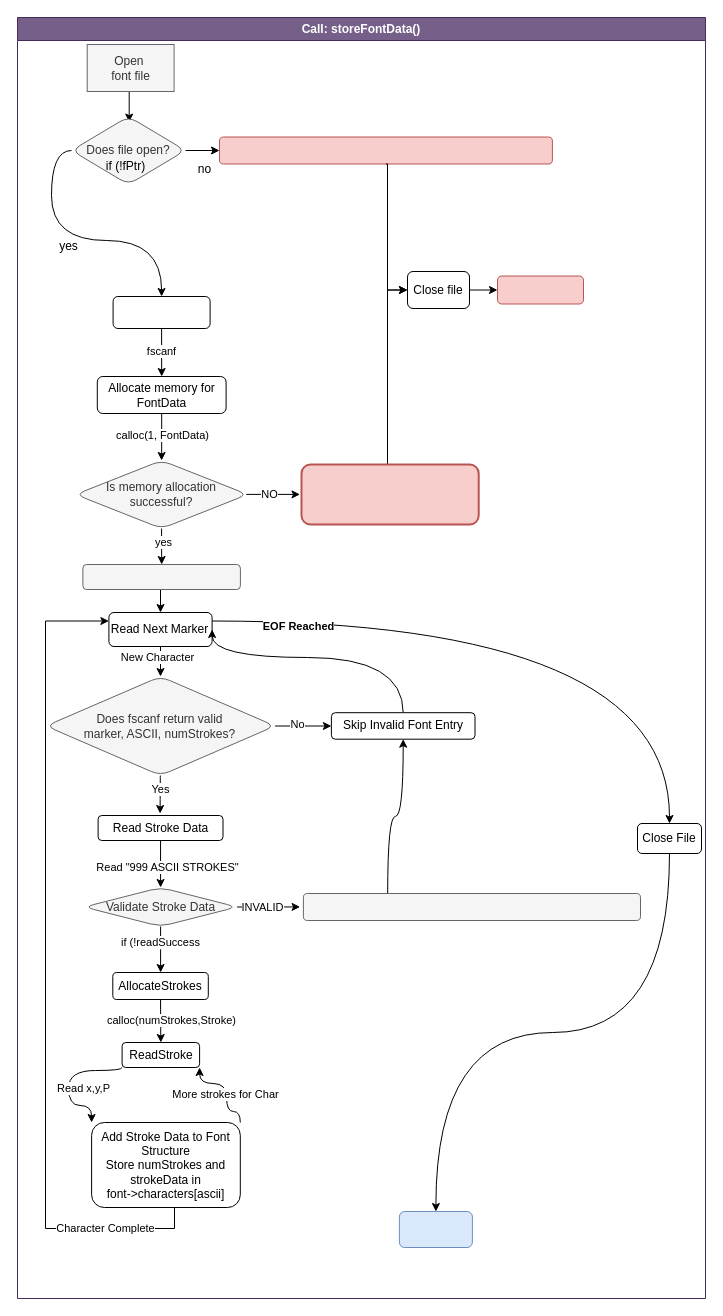
Some shapes in this 723 by 1316 pixel diagram are drawn without their labels. Each missing label, with the centre of its shape:
printf(Error: Failed to allocate memory for strokes of ASCII %d): (x=471, y=906)
printf(Loading font data...): (x=161, y=577)
printf: "[ERROR] Failed to open font file": (x=385, y=150)
printf: "[ERROR] Memory allocation failed for FontData": (x=389, y=494)
Read font data: (x=161, y=312)
Return font: (x=435, y=1229)
Return NULL: (x=540, y=289)
